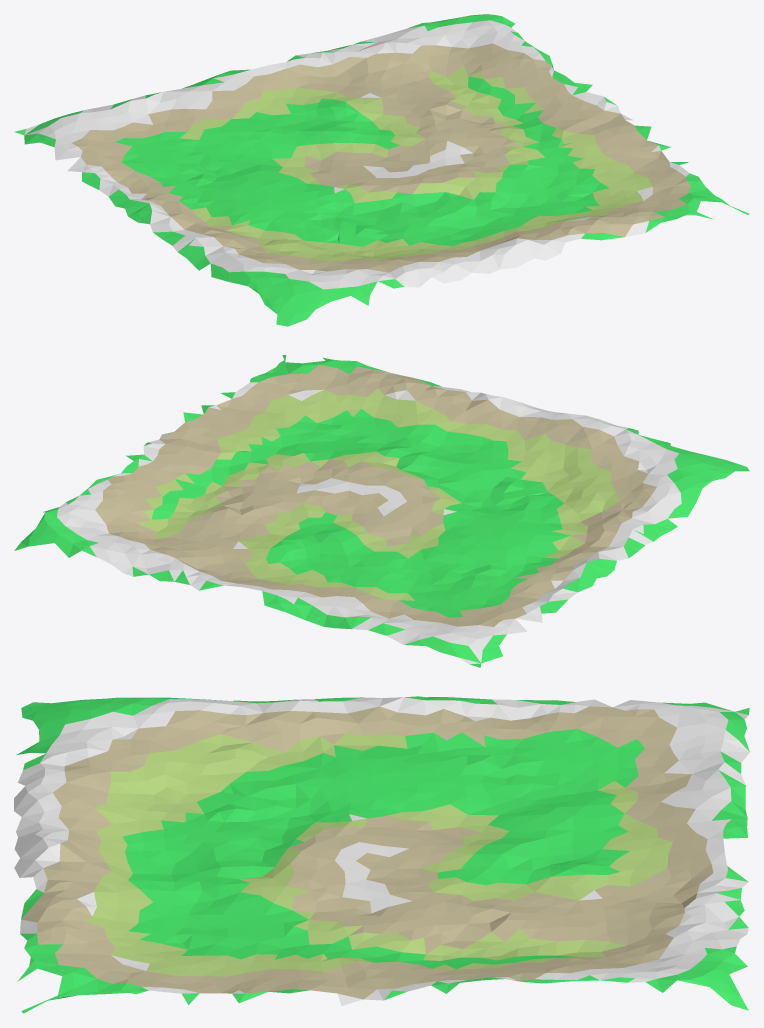
Rendered from low-terrain.fbx.
The picture shows the model from 3 angles, top to bottom: view 1: azimuth 30°, elevation 25°; view 2: azimuth 150°, elevation 25°; view 3: azimuth 270°, elevation 25°; orthographic projection. The views are drawn at different scales.
Parts seen in each view (by area): view 1: Plane; view 2: Plane; view 3: Plane.
Part boxes in pixels (<box>): Plane: <box>14,14,749,326</box>; Plane: <box>14,355,749,667</box>; Plane: <box>14,696,749,1013</box>.
Bounding box in the file's own units: 2008 × 95.25 × 1996.
